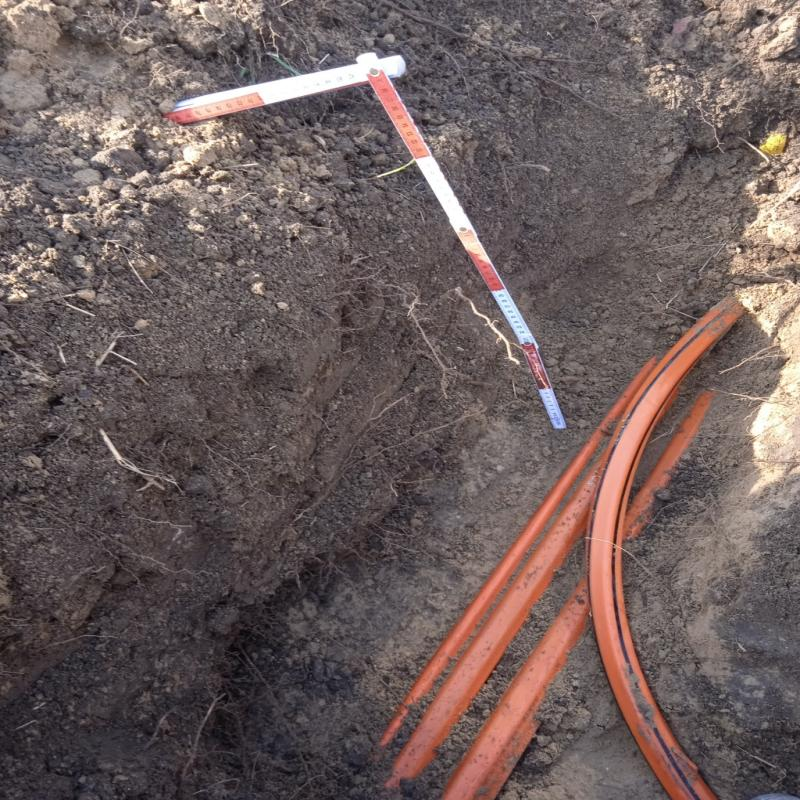Orang-Speednetrohrchen: (376, 291, 746, 800)
